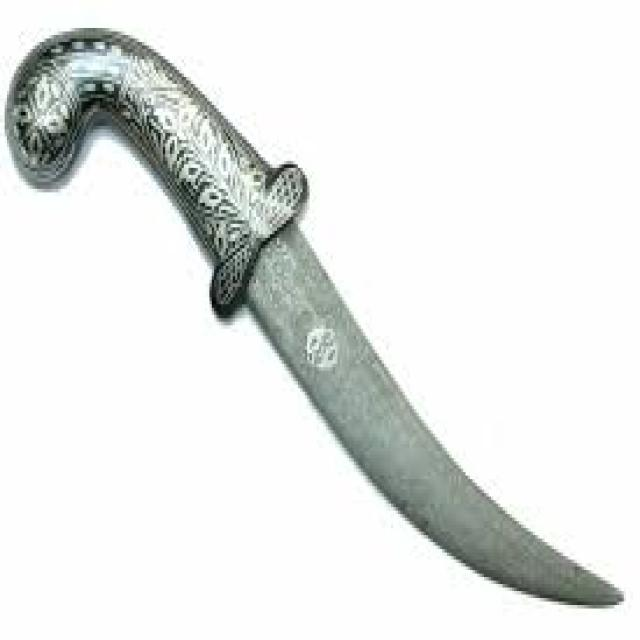Gun: (9, 24, 626, 616)
